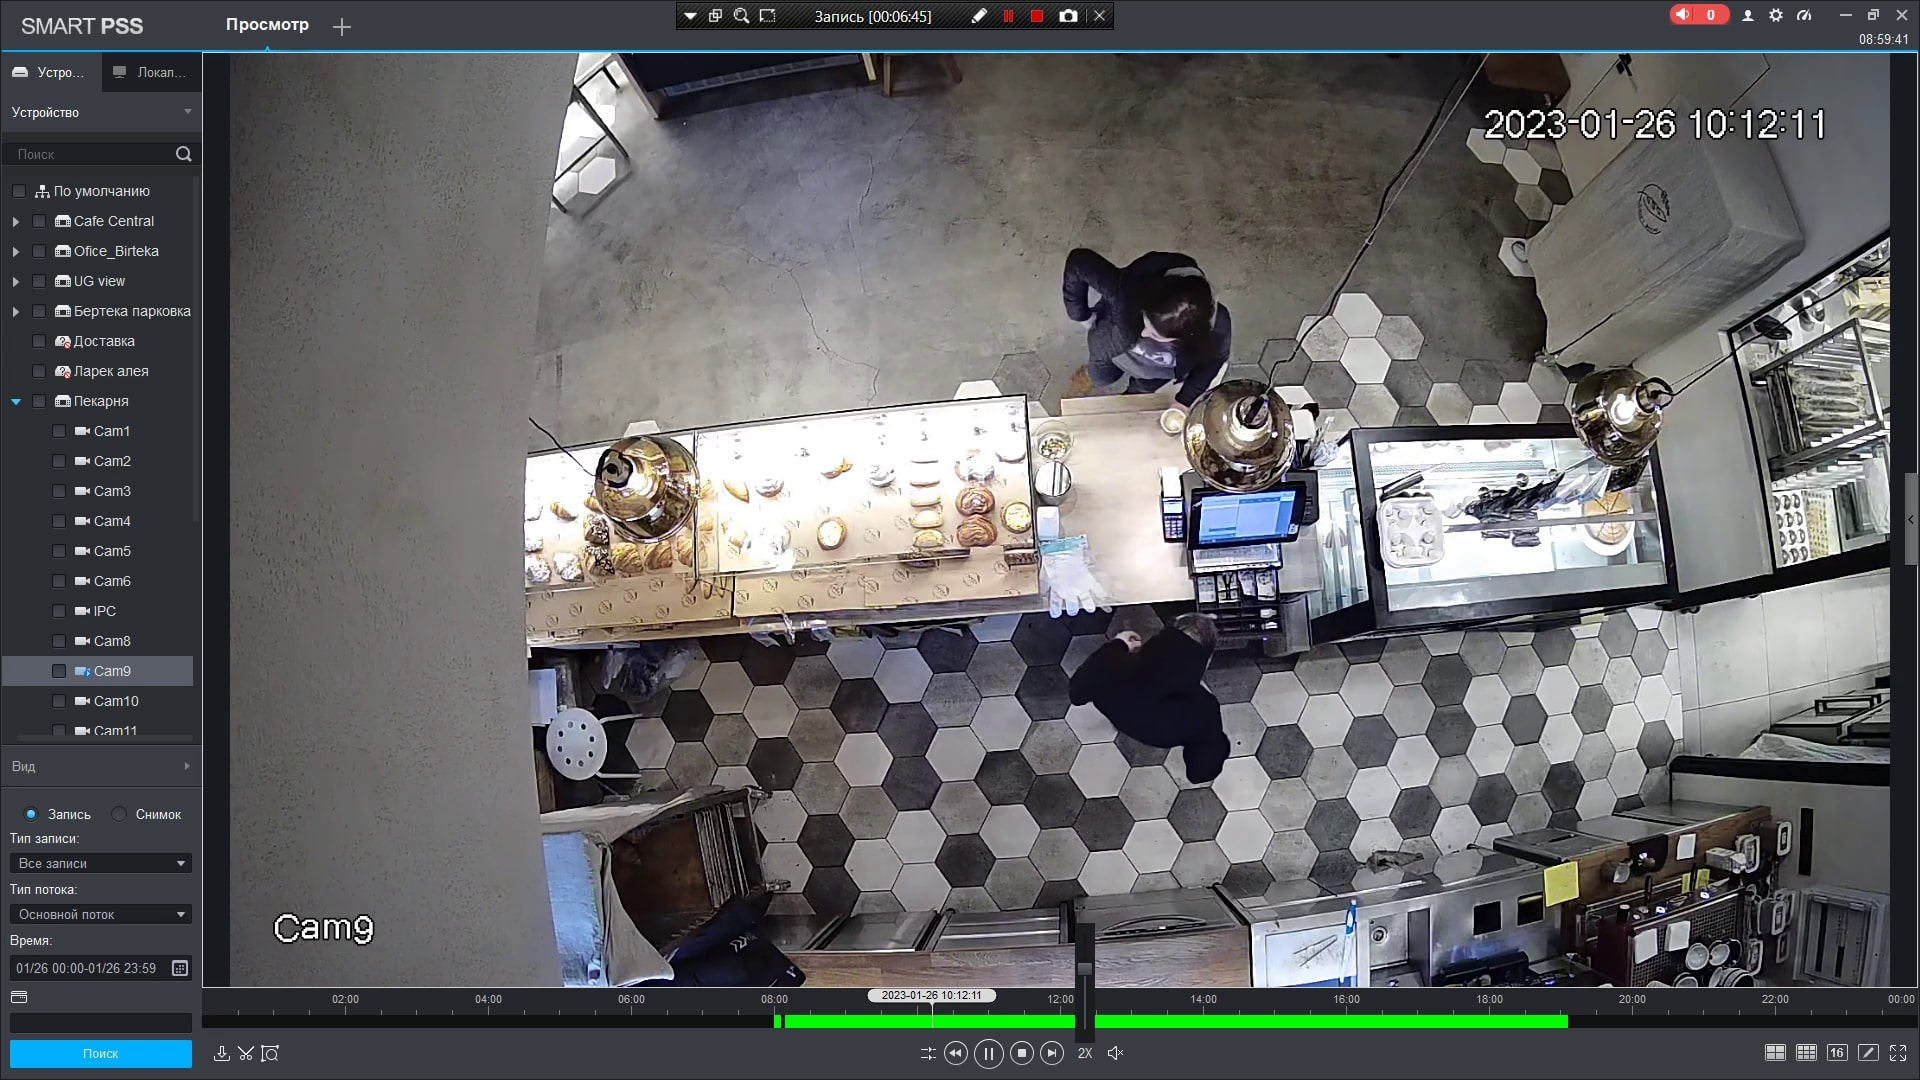coffee: (1157, 408, 1189, 441)
openedcash: (1193, 484, 1302, 638)
person: (1062, 600, 1237, 773), (1047, 228, 1217, 389)
